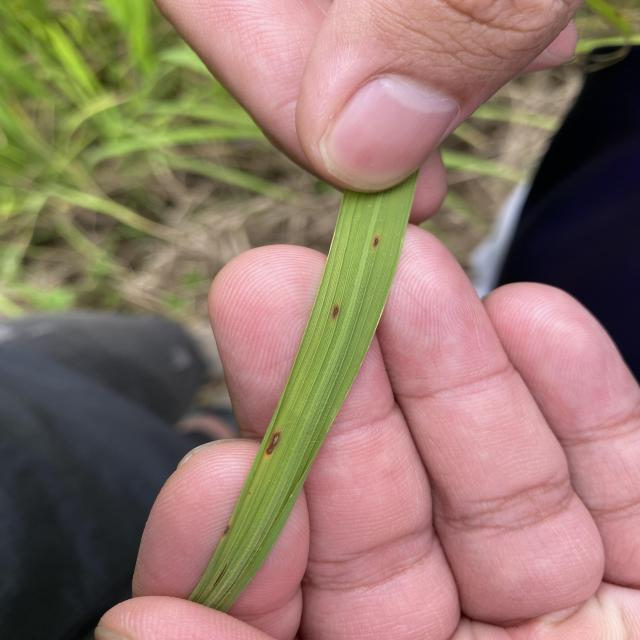Dom nau: (264, 430, 281, 456), (331, 305, 339, 320), (372, 236, 381, 248), (222, 524, 230, 536)
